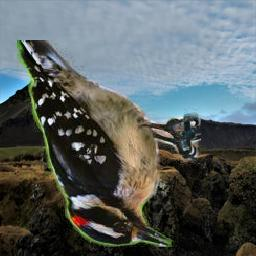Woodpecker: (17, 41, 201, 248)
